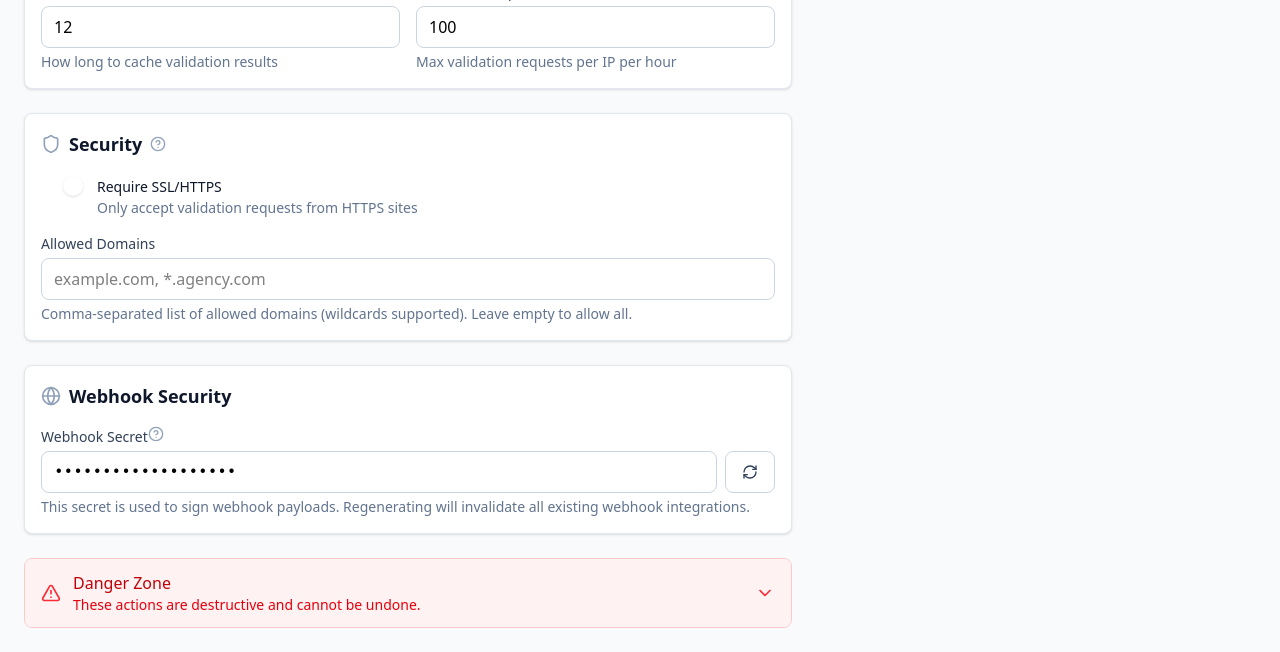
Settings › danger zone confirmation › opens confirmation dialog for Reset Limits
This screenshot has width=1280, height=652.
(page scrolled)
Click the heading "Danger Zone" at (122, 583), box 73,572 -> 171,594
(page scrolled)
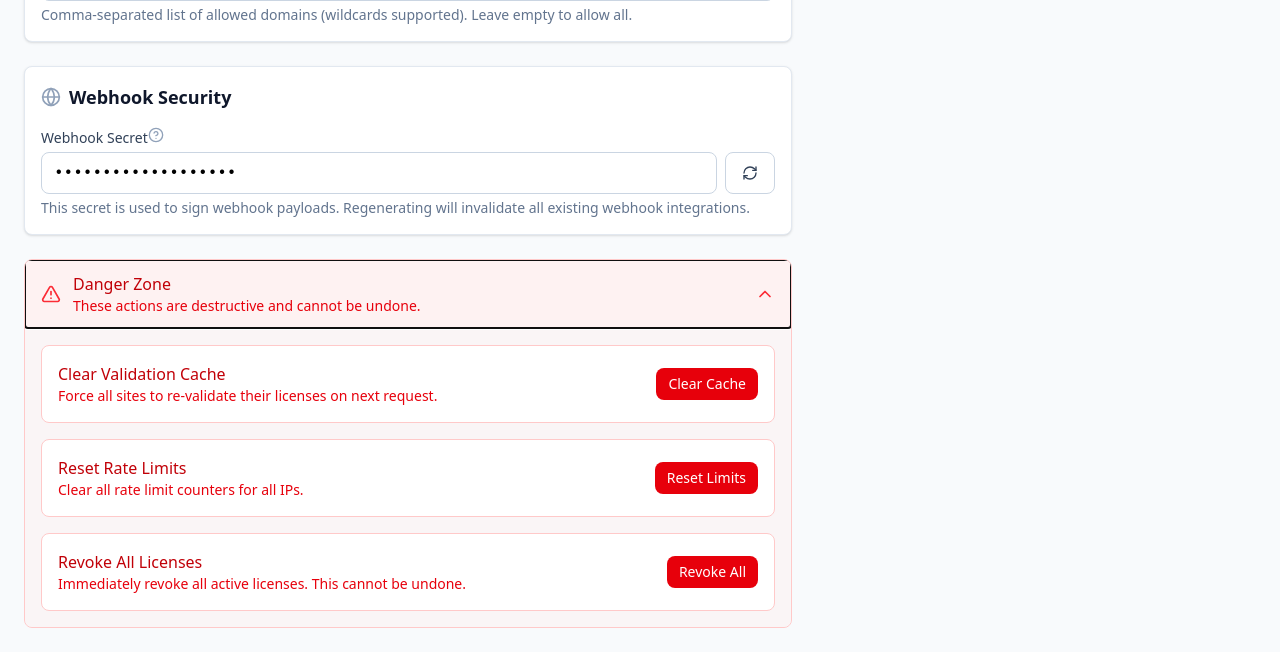
Click the button "Reset Limits" at (706, 478), box 655,462 -> 758,494
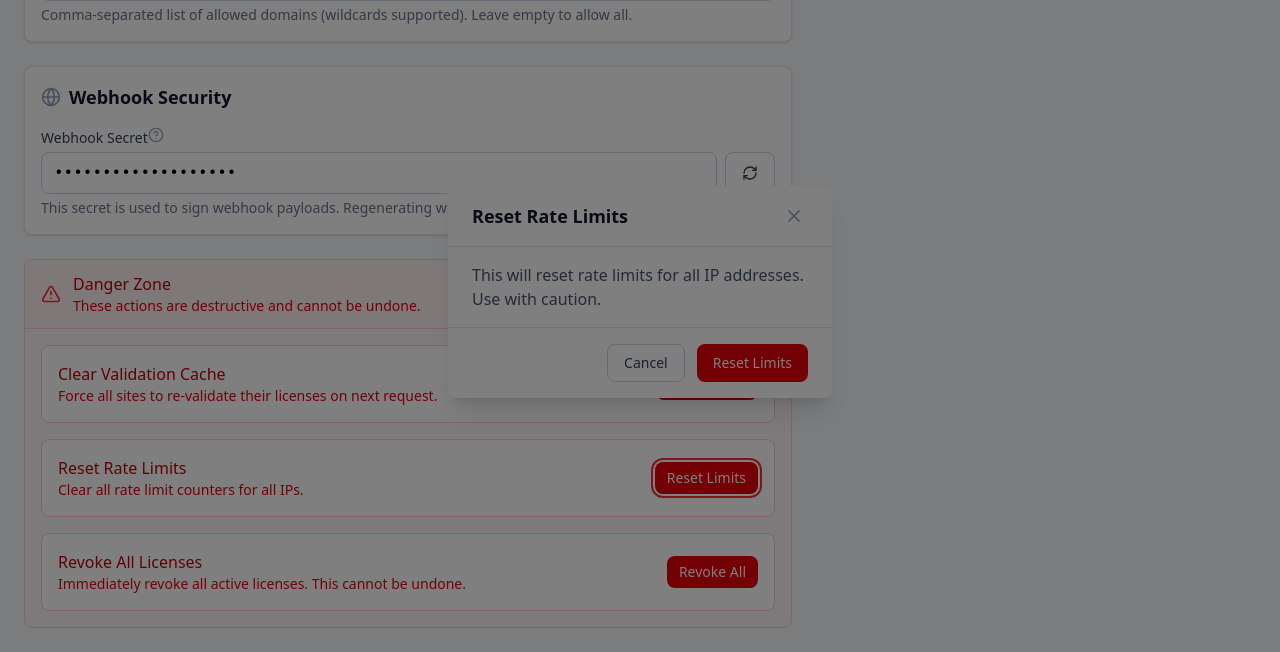
Expected: the text "This will reset rate limits for all IP addresses. Use with caution." is shown, 472,263 -> 808,311
